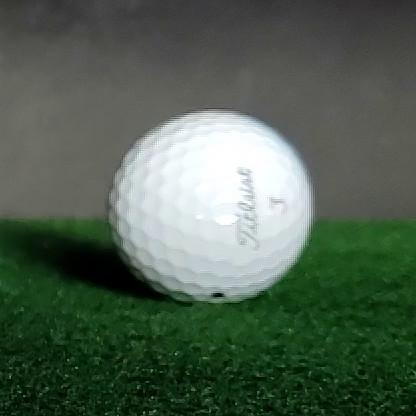golfball: (106, 109, 313, 303)
